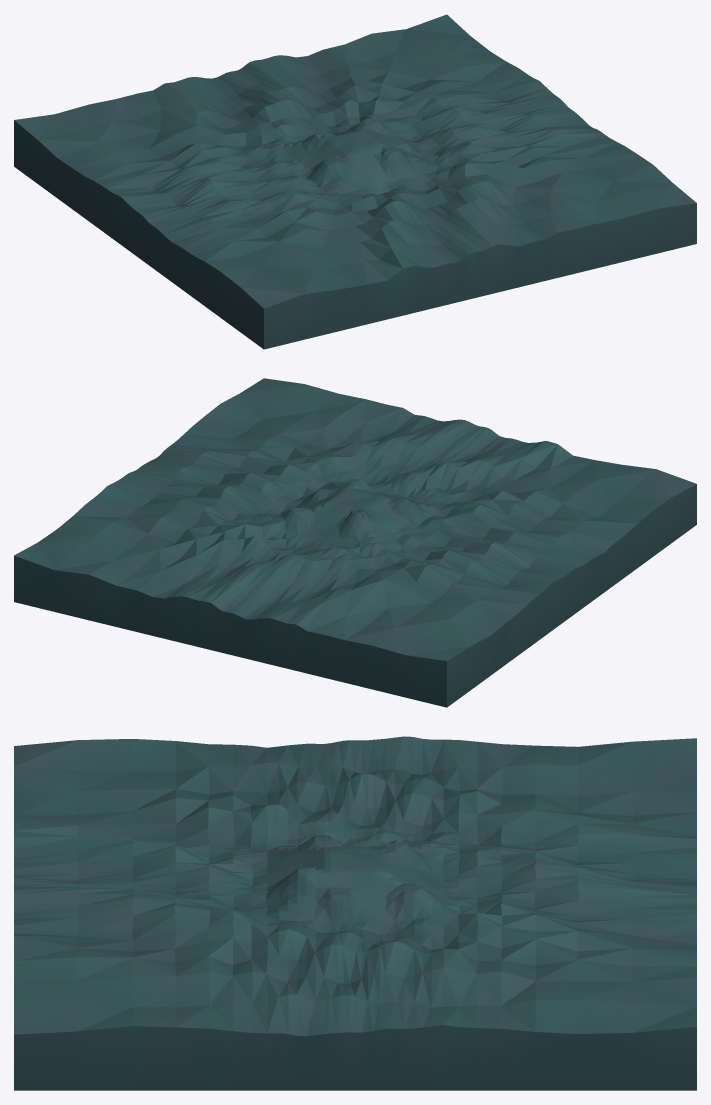
The model's file is abyss-terrain.glb.
3 views of the same model, one above another, from view 1: azimuth 30°, elevation 25°; view 2: azimuth 150°, elevation 25°; view 3: azimuth 270°, elevation 25° (orthographic). The views are drawn at different scales.
Visible parts, largest first — view 1: abyss-terrain; view 2: abyss-terrain; view 3: abyss-terrain.
Part boxes in pixels (<box>): abyss-terrain: <box>14,14,696,349</box>; abyss-terrain: <box>14,378,696,707</box>; abyss-terrain: <box>14,736,696,1090</box>.
Size of the model in its own units: 224 by 32.51 by 224.
